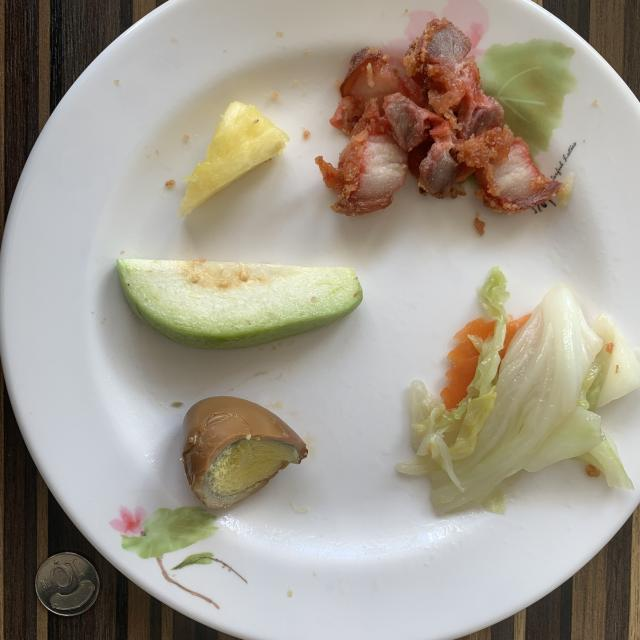cabbage: (396, 268, 640, 512)
coin: (35, 552, 99, 616)
guava -sliced-: (116, 259, 362, 349)
pineapple: (179, 101, 290, 218)
red grilled pork: (316, 19, 561, 216)
soy egg: (181, 396, 308, 509)
